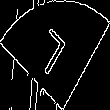L_SW: (35, 25, 75, 85)
